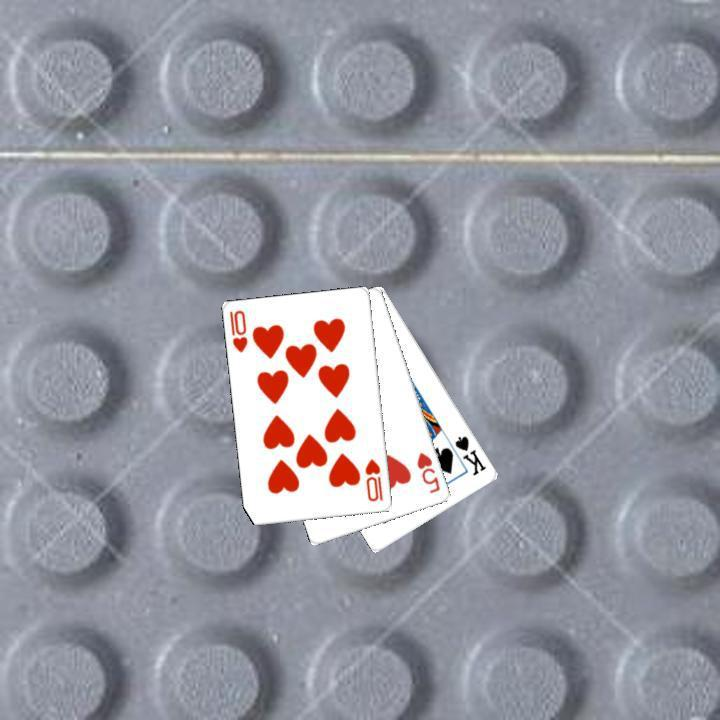10: (225, 306, 250, 355), (361, 455, 385, 504)
5: (413, 448, 442, 496)
K: (450, 431, 489, 478)
